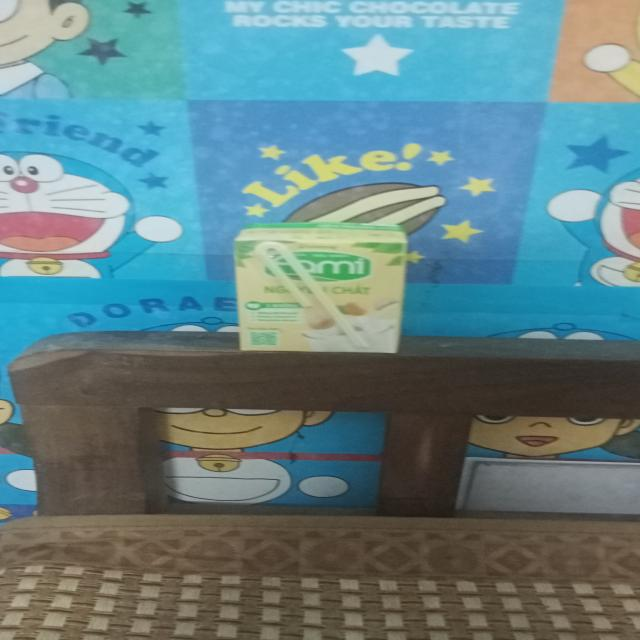Fami: (240, 221, 401, 354)
